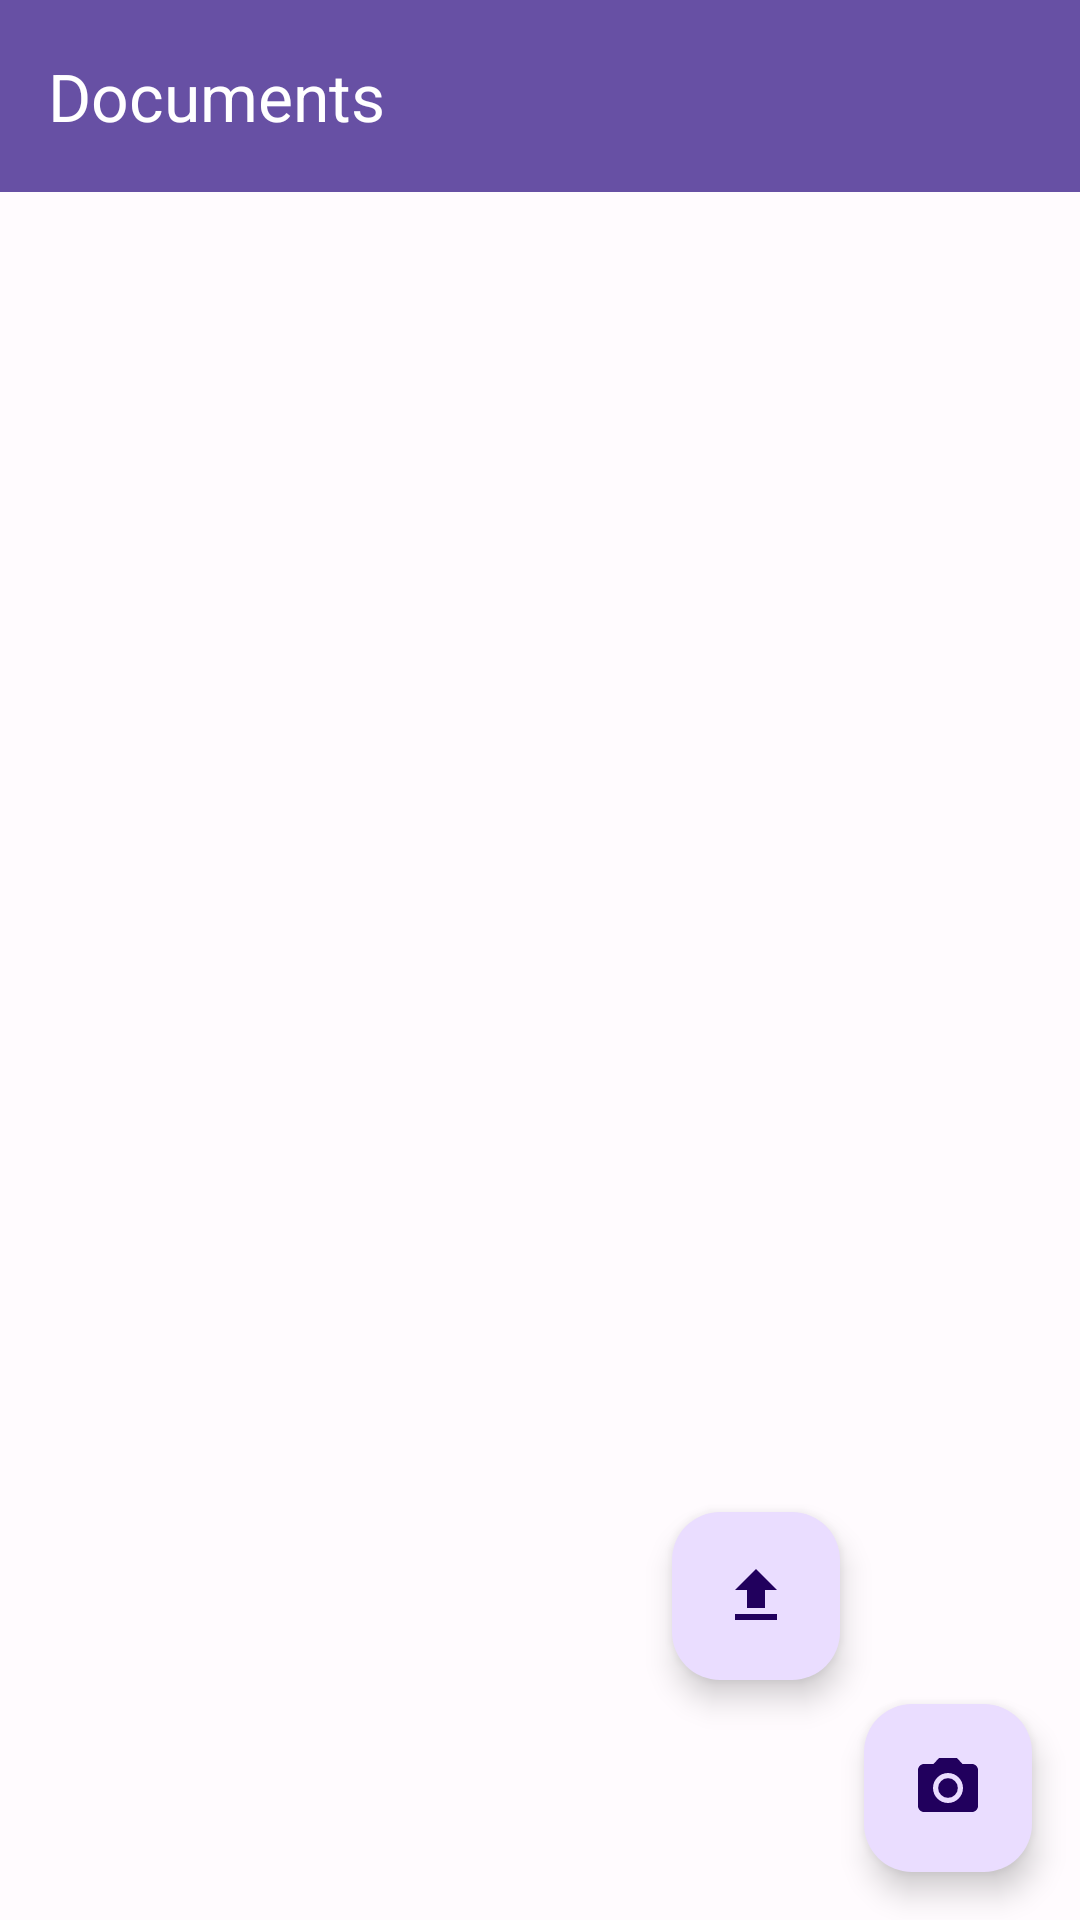

Point at icon controls on the screen. Image size 1080px x 1920px, points as point (x, y).
Import: point (756, 1596)
New Scan: point (948, 1788)
